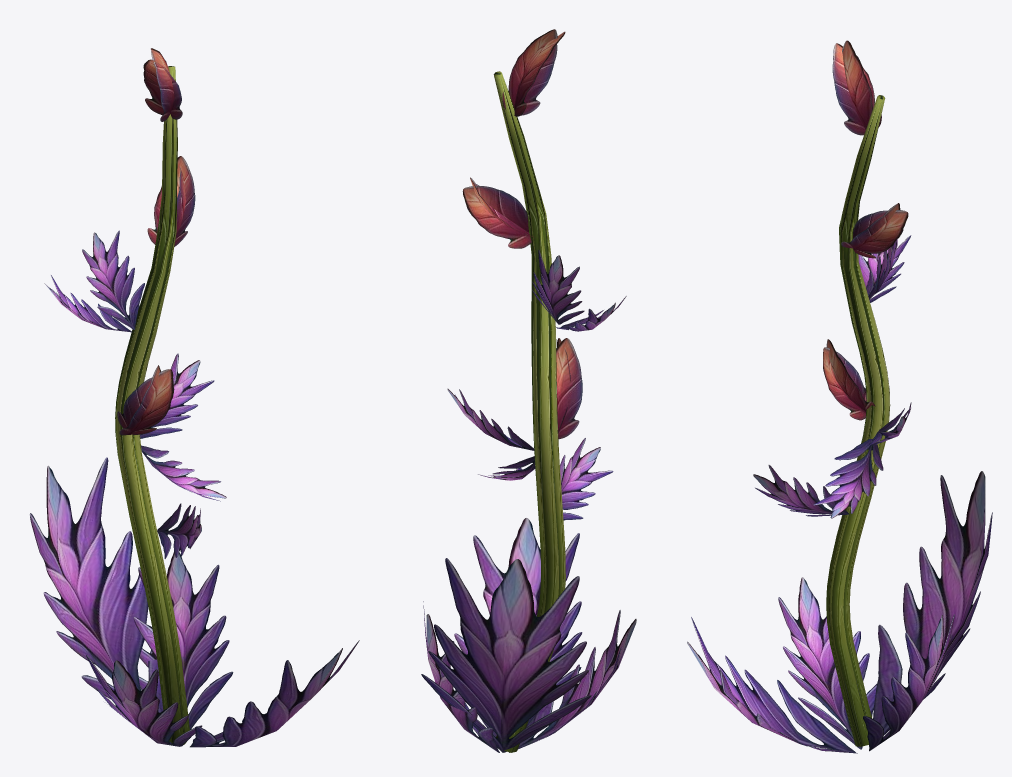
The model's file is Foliage_05.fbx.
3 views of the same model, side by side, from view 1: azimuth 30°, elevation 25°; view 2: azimuth 150°, elevation 25°; view 3: azimuth 270°, elevation 25° (orthographic). The views are drawn at different scales.
Parts seen in each view (by area): view 1: Leaf_05; view 2: Leaf_05; view 3: Leaf_05.
Boxes of the visible parts, x1,y1,x2,y2 form: Leaf_05: (29,48,359,747); Leaf_05: (421,29,636,752); Leaf_05: (687,40,992,753).
Size of the model in its own units: 86.45 by 233 by 96.67.
Materials: 1 (1 with a texture image).
